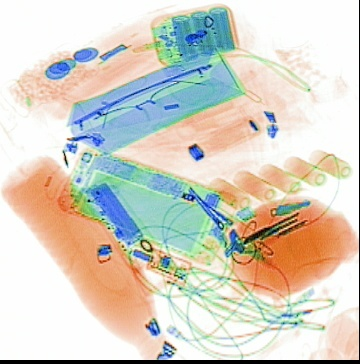powerbank: (84, 180, 159, 273), (148, 5, 242, 69)
